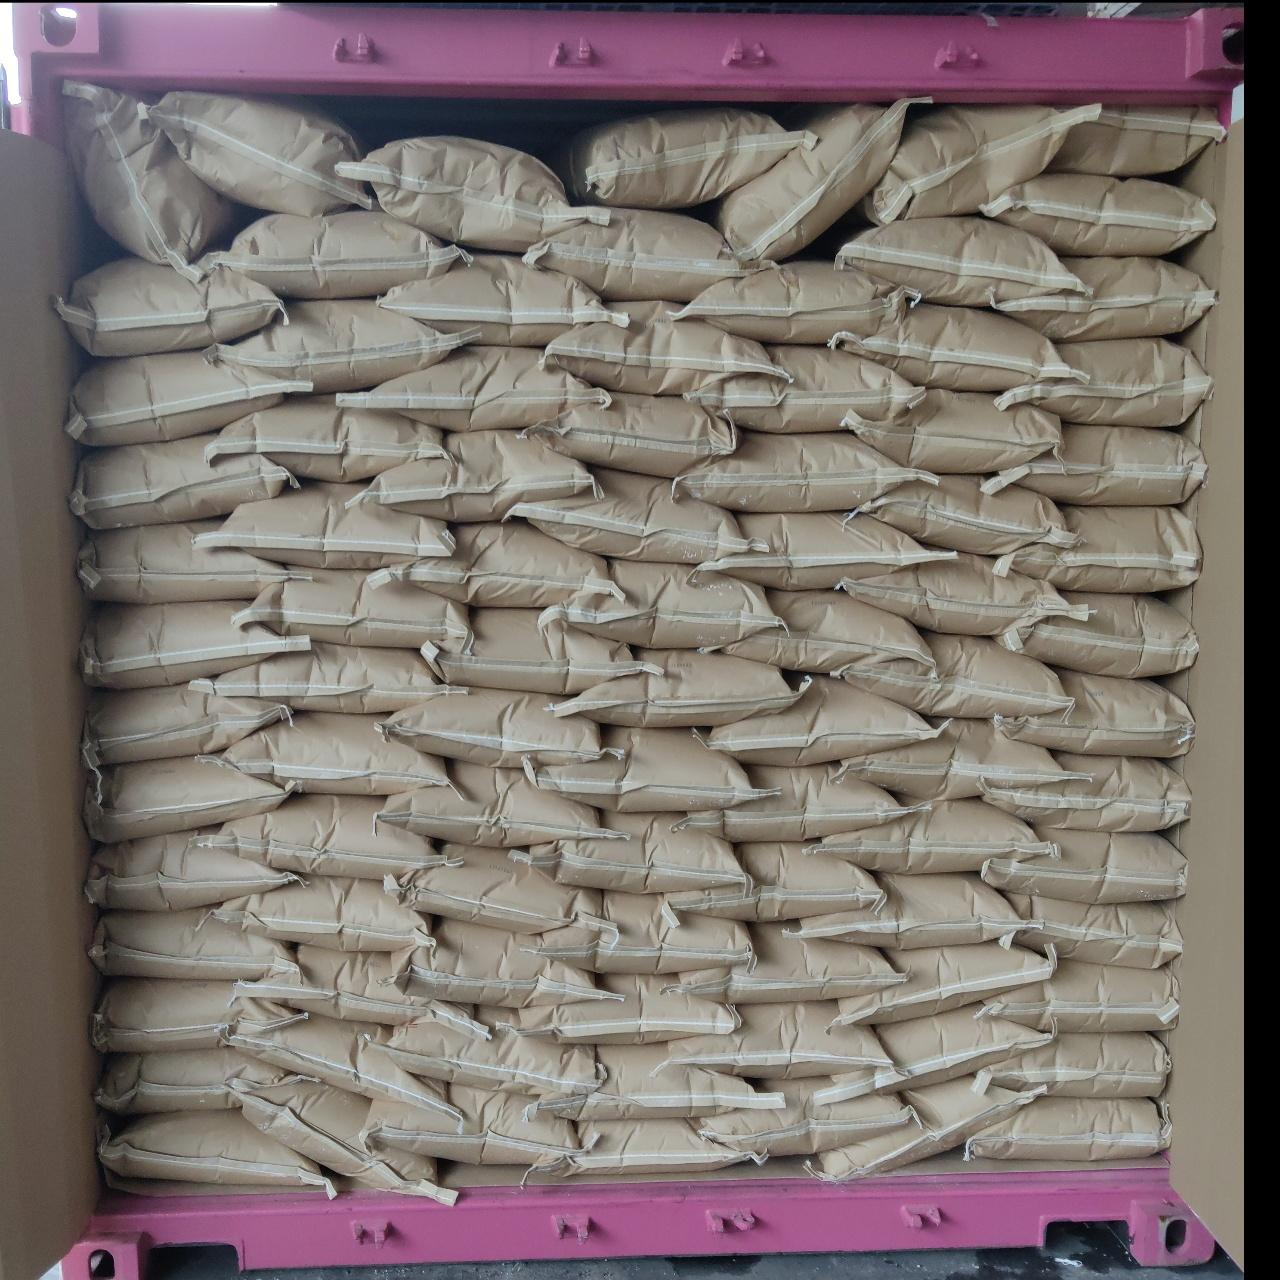sack: (62, 80, 234, 282), (712, 102, 908, 268), (334, 136, 584, 252), (236, 1068, 454, 1200), (148, 92, 368, 214), (860, 106, 1090, 222), (552, 108, 812, 206), (228, 1014, 454, 1122), (808, 1078, 1040, 1180), (208, 300, 470, 390), (508, 468, 750, 564), (238, 944, 482, 1038), (68, 350, 310, 444), (54, 256, 282, 354), (338, 346, 604, 430), (522, 727, 781, 813), (204, 210, 466, 294), (820, 1006, 1046, 1102), (348, 432, 600, 518), (836, 218, 1086, 304), (544, 302, 782, 392), (202, 482, 454, 566), (368, 522, 620, 606), (378, 256, 622, 342), (379, 687, 623, 773), (838, 302, 1076, 390), (72, 434, 298, 526), (376, 760, 612, 846), (388, 844, 608, 936), (544, 560, 778, 646), (368, 1008, 602, 1094), (682, 346, 920, 430), (702, 678, 934, 764), (524, 210, 750, 298), (826, 942, 1052, 1030), (676, 432, 930, 510), (840, 554, 1084, 634), (208, 396, 446, 478), (698, 512, 954, 588), (518, 892, 754, 974), (210, 794, 440, 878), (84, 600, 308, 686), (840, 632, 1068, 716), (832, 718, 1070, 798), (554, 650, 802, 726), (420, 610, 644, 694), (676, 264, 916, 342), (786, 872, 1026, 950), (86, 678, 292, 768), (396, 918, 606, 1006), (368, 1082, 588, 1166), (234, 568, 470, 646), (996, 338, 1210, 424), (984, 174, 1214, 254), (676, 922, 900, 1004), (804, 798, 1052, 872), (532, 1044, 778, 1118), (102, 1112, 334, 1190), (526, 392, 736, 478), (994, 258, 1214, 340), (222, 712, 446, 792), (846, 388, 1062, 470), (86, 828, 302, 910), (526, 812, 742, 894), (206, 642, 464, 710), (852, 476, 1076, 554), (662, 1000, 886, 1078), (80, 520, 292, 602), (994, 506, 1200, 590), (88, 754, 294, 838), (984, 424, 1204, 502), (992, 670, 1190, 756), (662, 842, 884, 918), (674, 766, 908, 838), (724, 592, 934, 670), (214, 877, 434, 951), (694, 1078, 908, 1154), (998, 594, 1196, 676), (90, 906, 298, 982), (984, 754, 1190, 830), (94, 978, 306, 1050), (982, 828, 1186, 902), (520, 974, 738, 1042), (974, 958, 1178, 1030), (536, 1120, 764, 1180), (1002, 892, 1182, 966), (1050, 102, 1224, 174), (98, 1048, 290, 1112), (972, 1032, 1170, 1094), (966, 1098, 1170, 1158)
